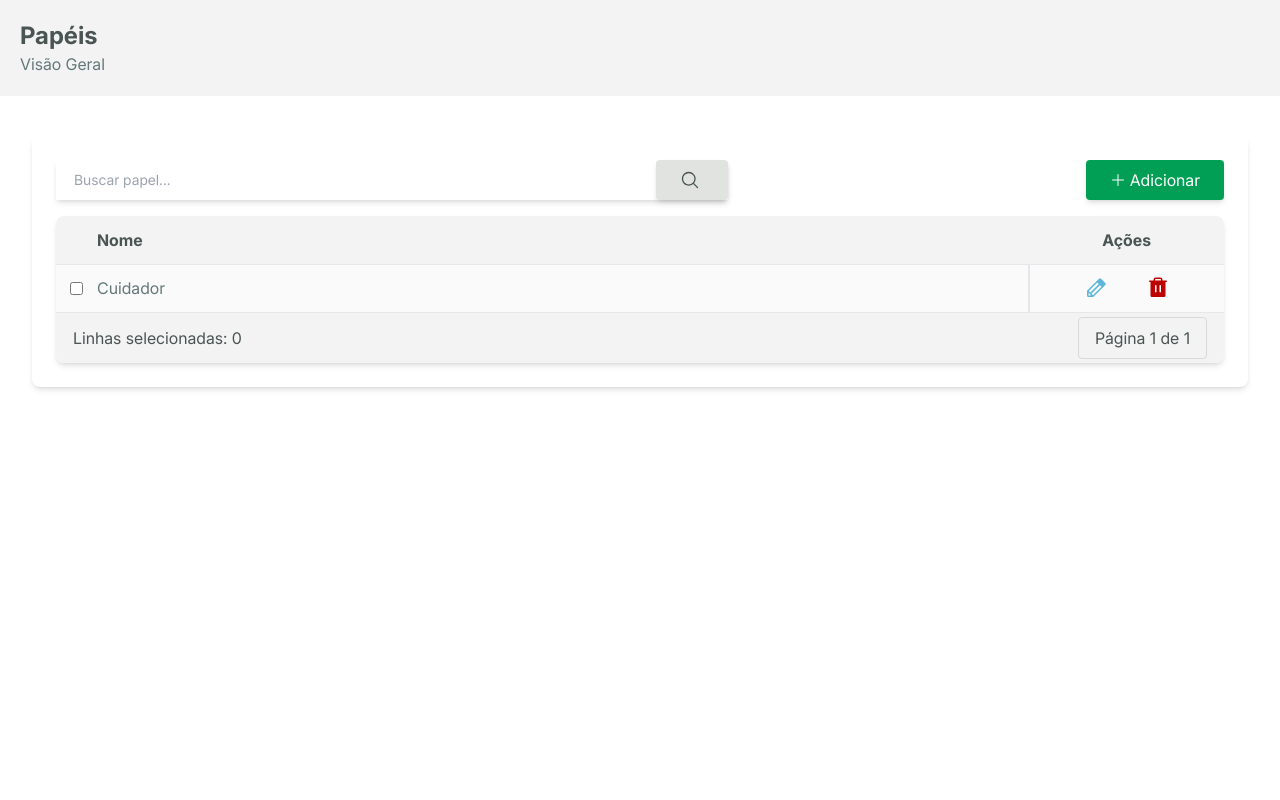
Test: RoleOverview › shows a friendly message on a 409 (stale RowVersion) when editing
The width and height of the screenshot is (1280, 800).
expect the text "Cuidador" is shown: met, box x1=96 y1=264 x2=1029 y2=312
Step 1. Click the button named "Editar" → (1096, 288), box x1=1084 y1=276 x2=1108 y2=300
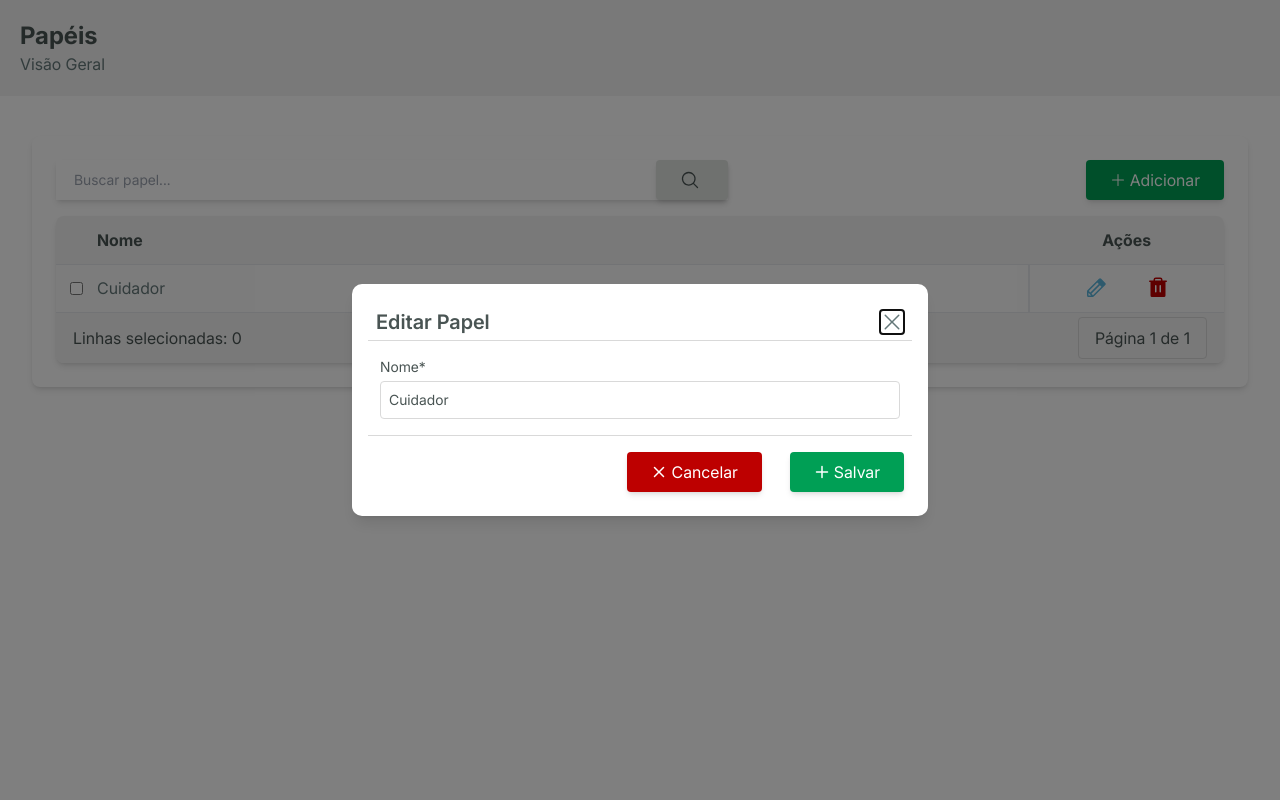
Step 2. Replace the text in the field named "name" with "Cuidador Sênior" → (640, 400), box x1=380 y1=381 x2=900 y2=419
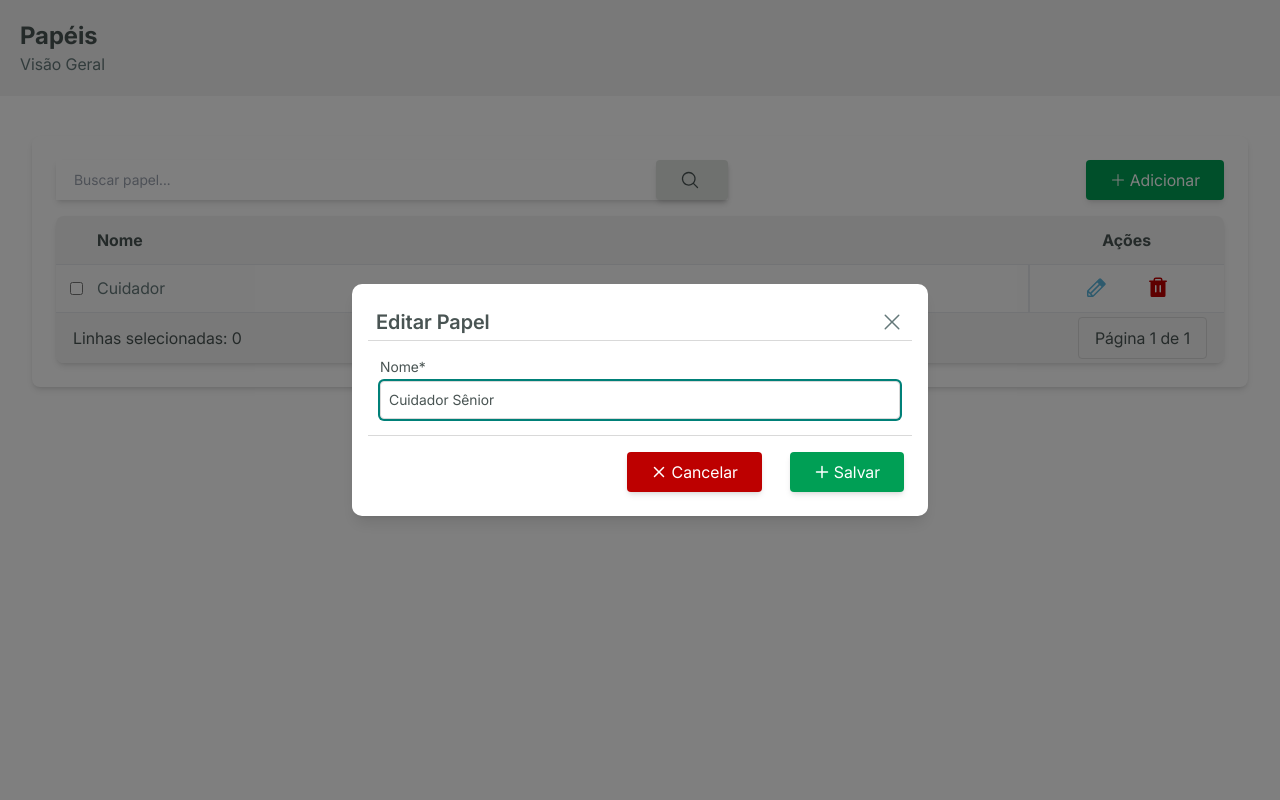
Step 3. Click the button "Salvar" → (847, 472), box x1=790 y1=452 x2=904 y2=492
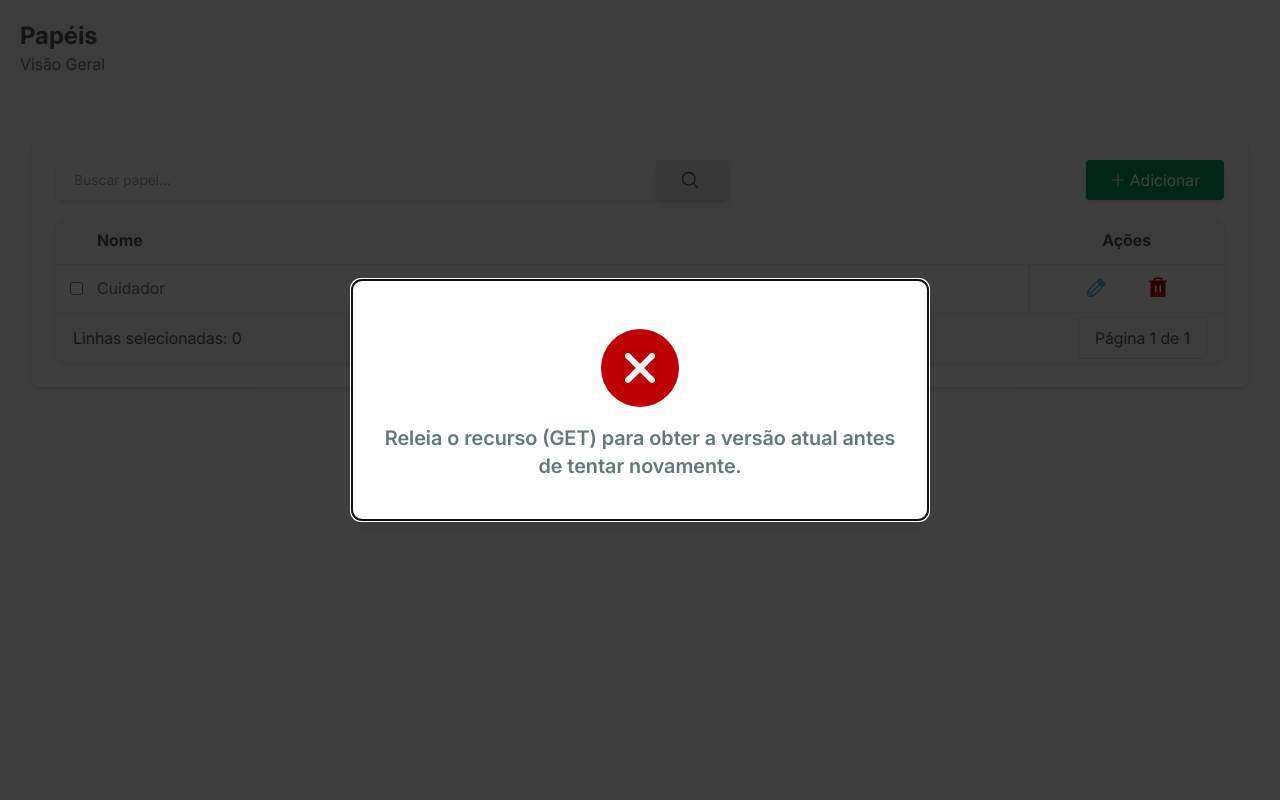
expect the text "Releia o recurso (GET) para obter a versão atual antes de tentar novamente." is shown: met, box x1=380 y1=424 x2=900 y2=480
